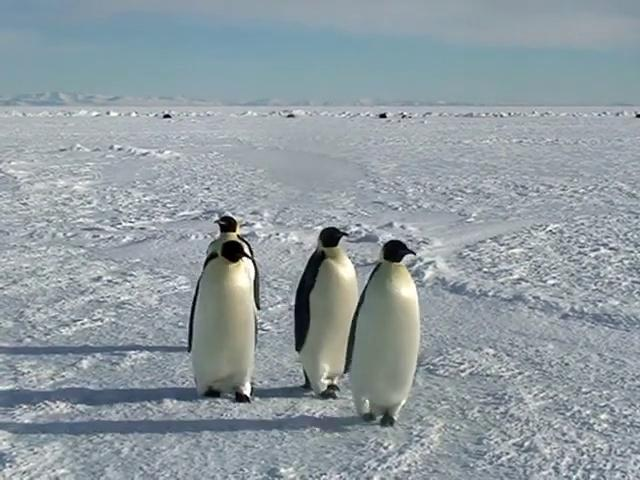animal: (346, 241, 421, 427)
